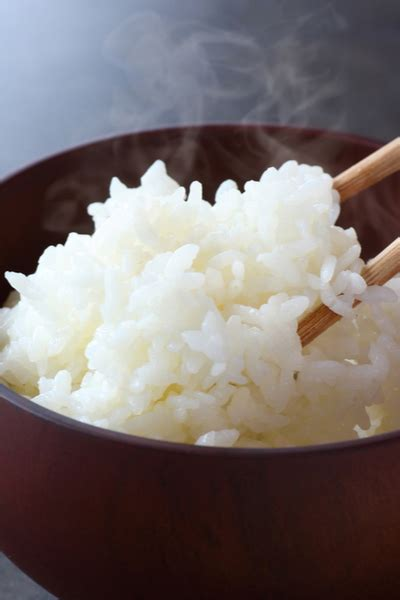rice: (16, 164, 392, 423)
